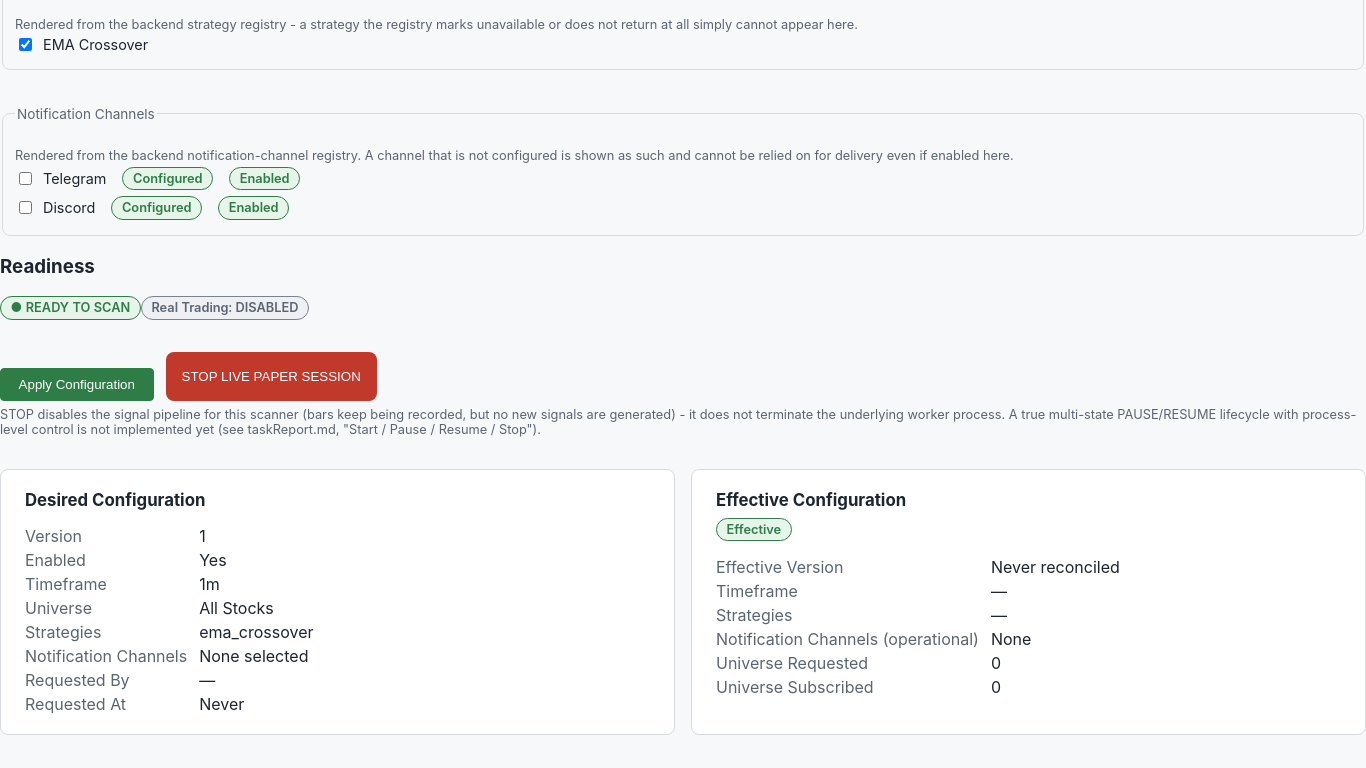
Scenario: LiveScannerConsole › Checkpoint 64.17 §12: cancelling the confirmation makes no request at all
This screenshot has width=1366, height=768.
(page scrolled)
Click the button "Apply Configuration" at (77, 384), box [0, 368, 154, 401]
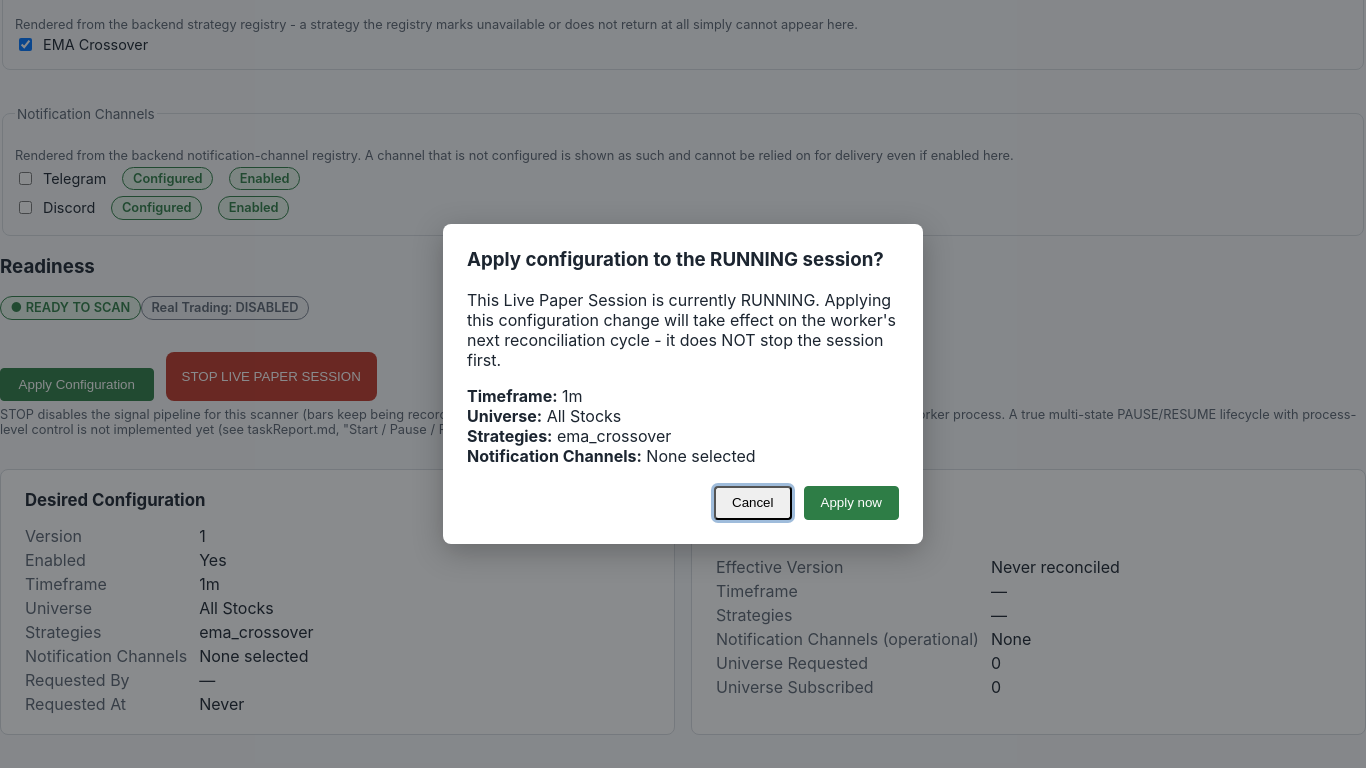
Expected: the dialog is shown, [443, 224, 923, 544]
Click the button "Cancel" at (753, 503), box [714, 486, 792, 520]
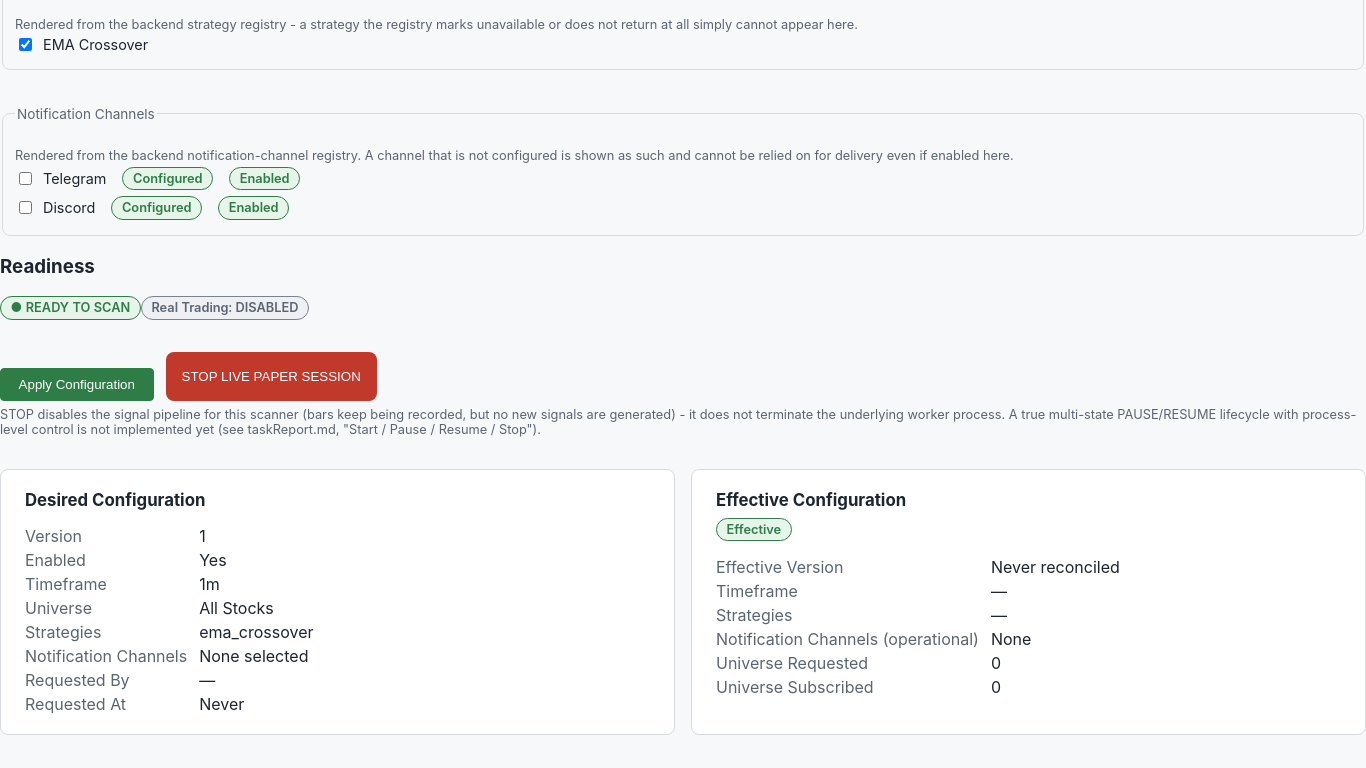
Expected: the dialog is gone
